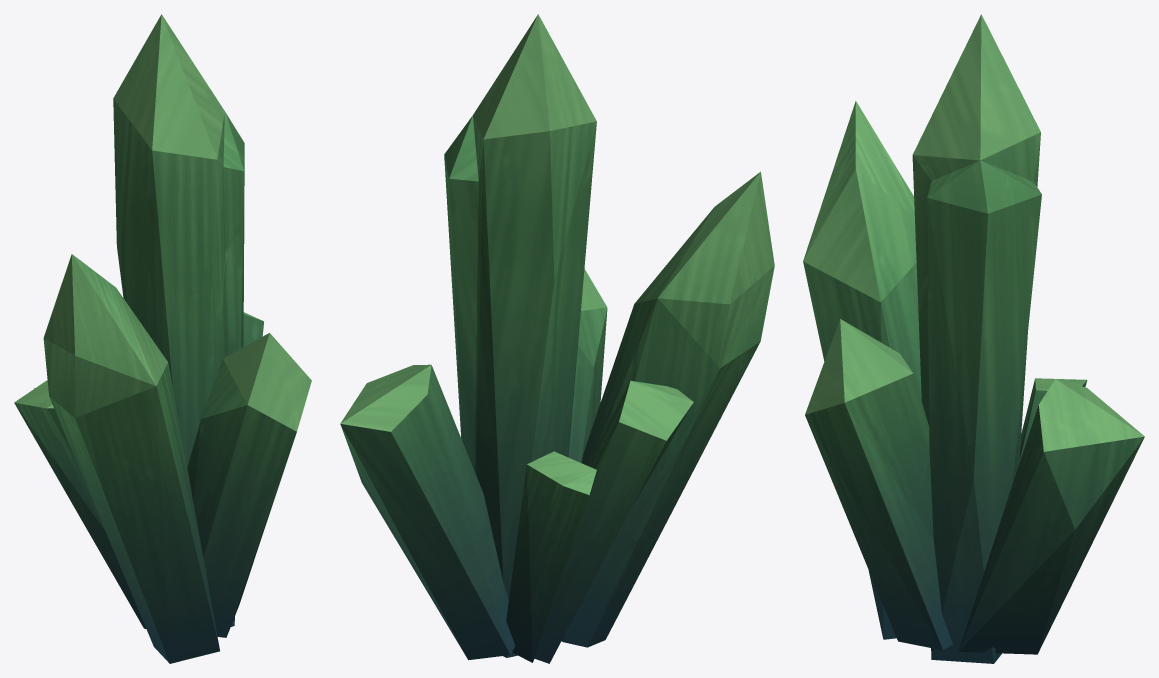
Rendered from Crystal3.fbx.
3 views of the same model, side by side, from view 1: azimuth 30°, elevation 25°; view 2: azimuth 150°, elevation 25°; view 3: azimuth 270°, elevation 25° (orthographic). The views are drawn at different scales.
Parts seen in each view (by area): view 1: polySurface42; view 2: polySurface42; view 3: polySurface42.
Part boxes in pixels (x1,y1,x2,y2): polySurface42: (14, 14, 311, 663); polySurface42: (340, 14, 774, 663); polySurface42: (803, 14, 1144, 663).
Bounding box in the file's own units: 0.75 × 1.53 × 0.7493.
1 material, 1 textured.
